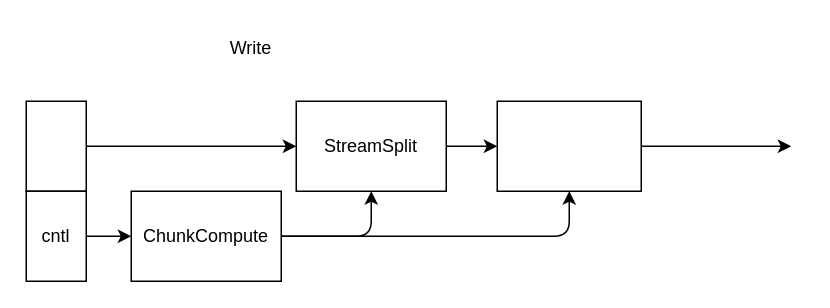
The diagram is 830 pixels wide and 308 high, and some of its shapes have lost their labels. Here are the shapes that lost their labels. From the top down, the centre of each, then its label:
At point 55,145: "Stream".
At point 568,145: "TlpHeaderAdd".
